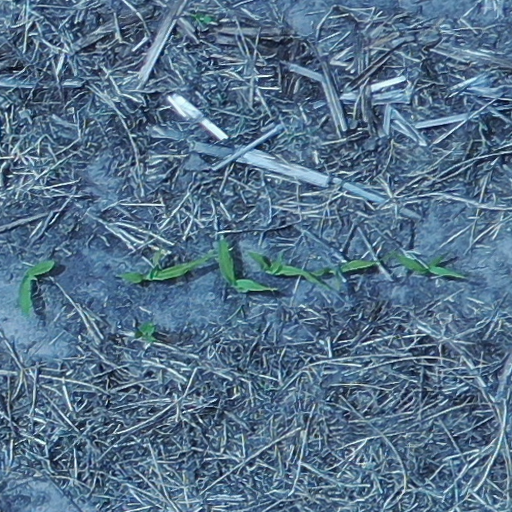planta: (119, 249, 213, 282), (220, 238, 277, 292), (19, 261, 54, 313), (395, 253, 463, 278), (248, 252, 310, 276), (303, 269, 334, 288), (341, 259, 378, 271)
